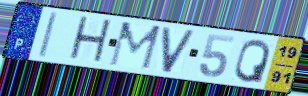5: (198, 32, 237, 79)
H: (66, 14, 114, 66)
I: (36, 11, 60, 59)
M: (106, 20, 164, 71)
Q: (232, 38, 272, 85)
V: (160, 26, 198, 75)
